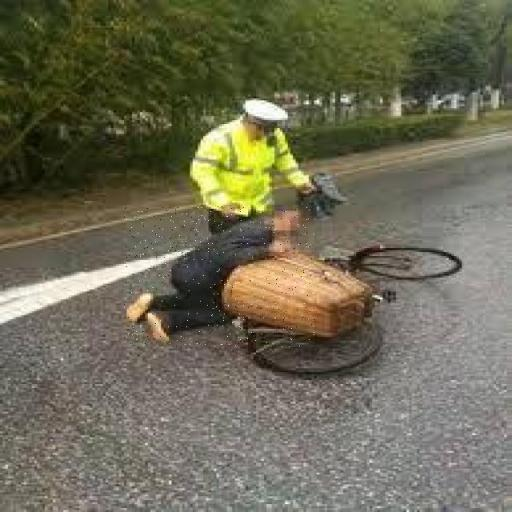Fall: (124, 207, 314, 348)
